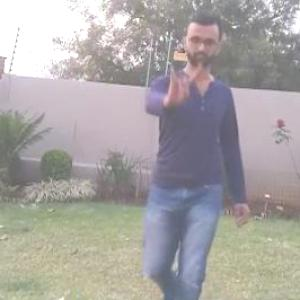takeoff-hand: (158, 57, 205, 114)
